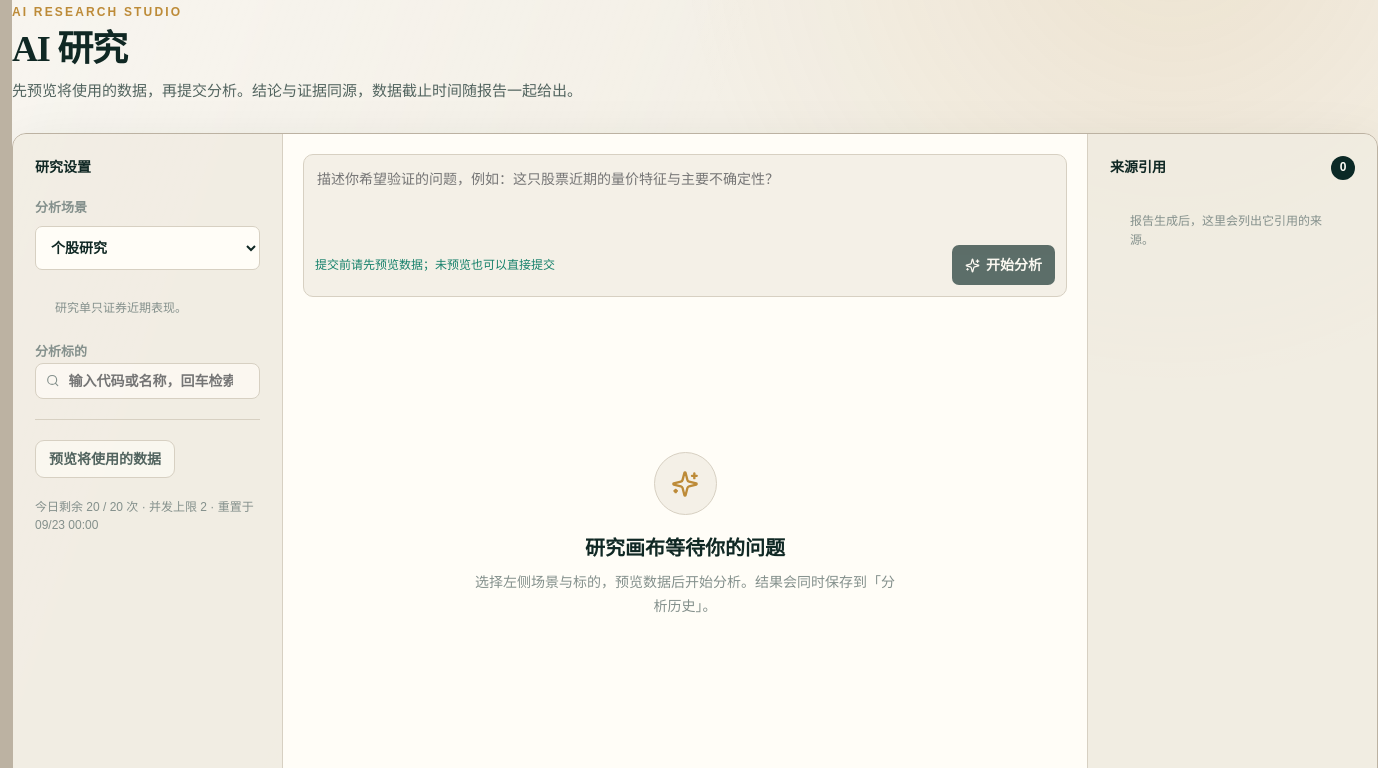
Test: AI 研究工作台 › 核心行情缺失时禁用提交，不让用户白跑一次
Step 1. Type "600519" into the search field labelled "分析标的" → (158, 381), box [66,369,249,393]
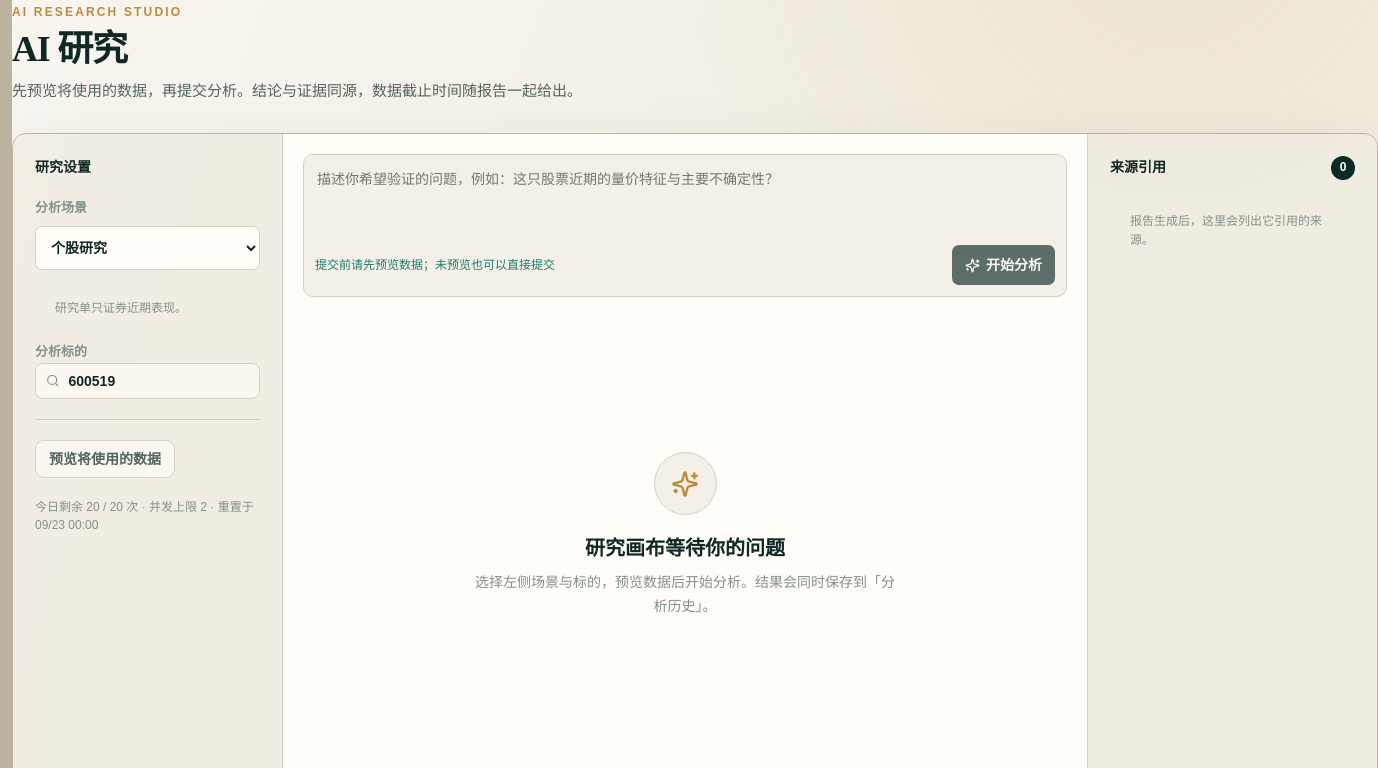
Step 2. Press Enter in the search field labelled "分析标的", box [66,369,249,393]
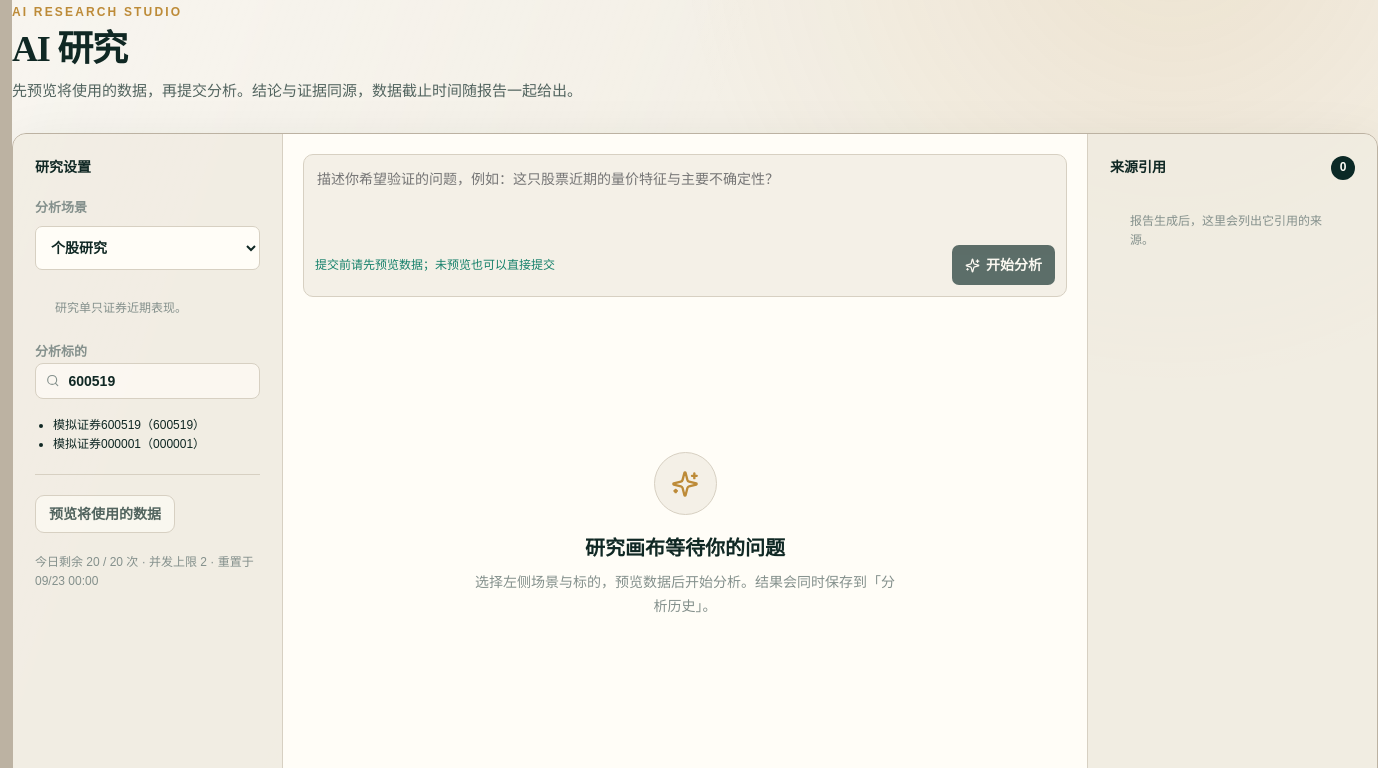
Step 3. Click the button "模拟证券600519（600519）" → (129, 425), box [53,416,205,435]
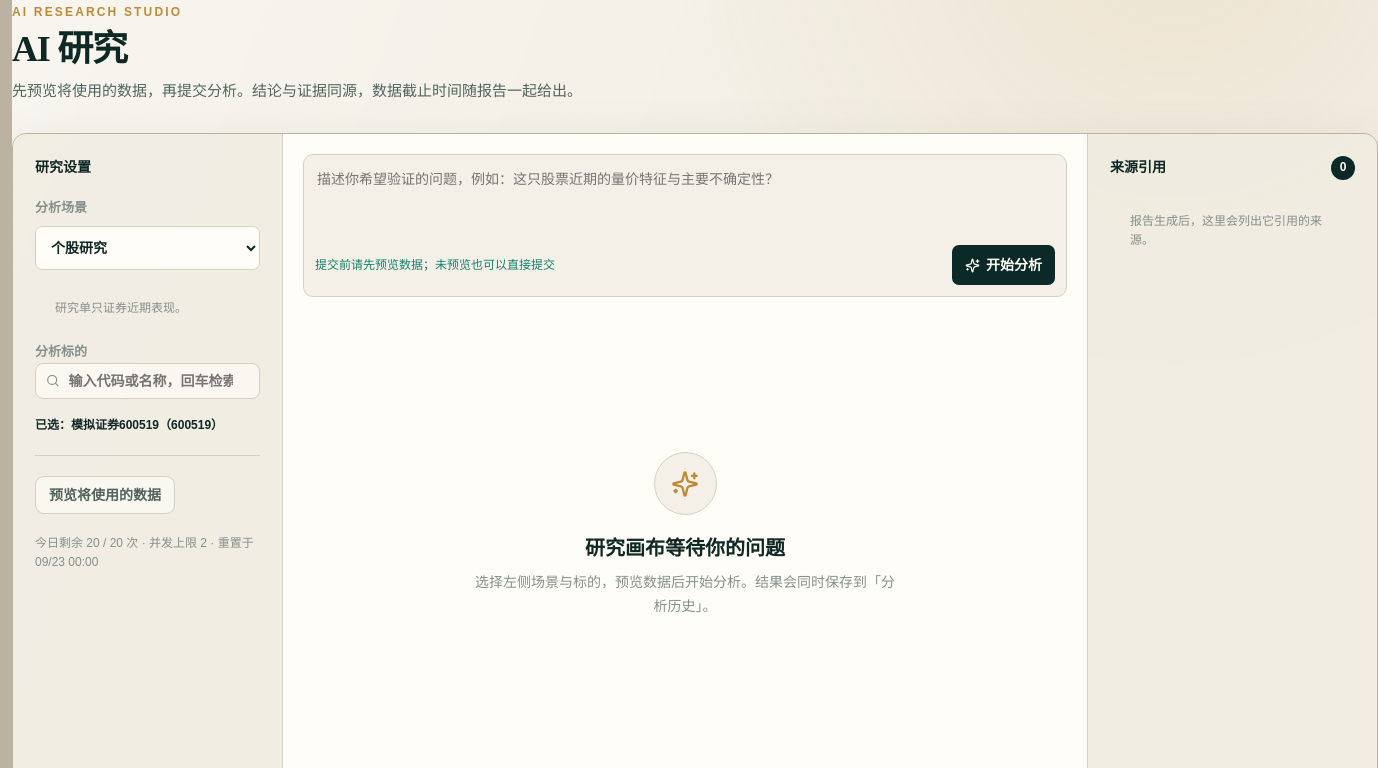
Step 4. Click the button with class "secondary-button" → (105, 495), box [35,476,175,514]
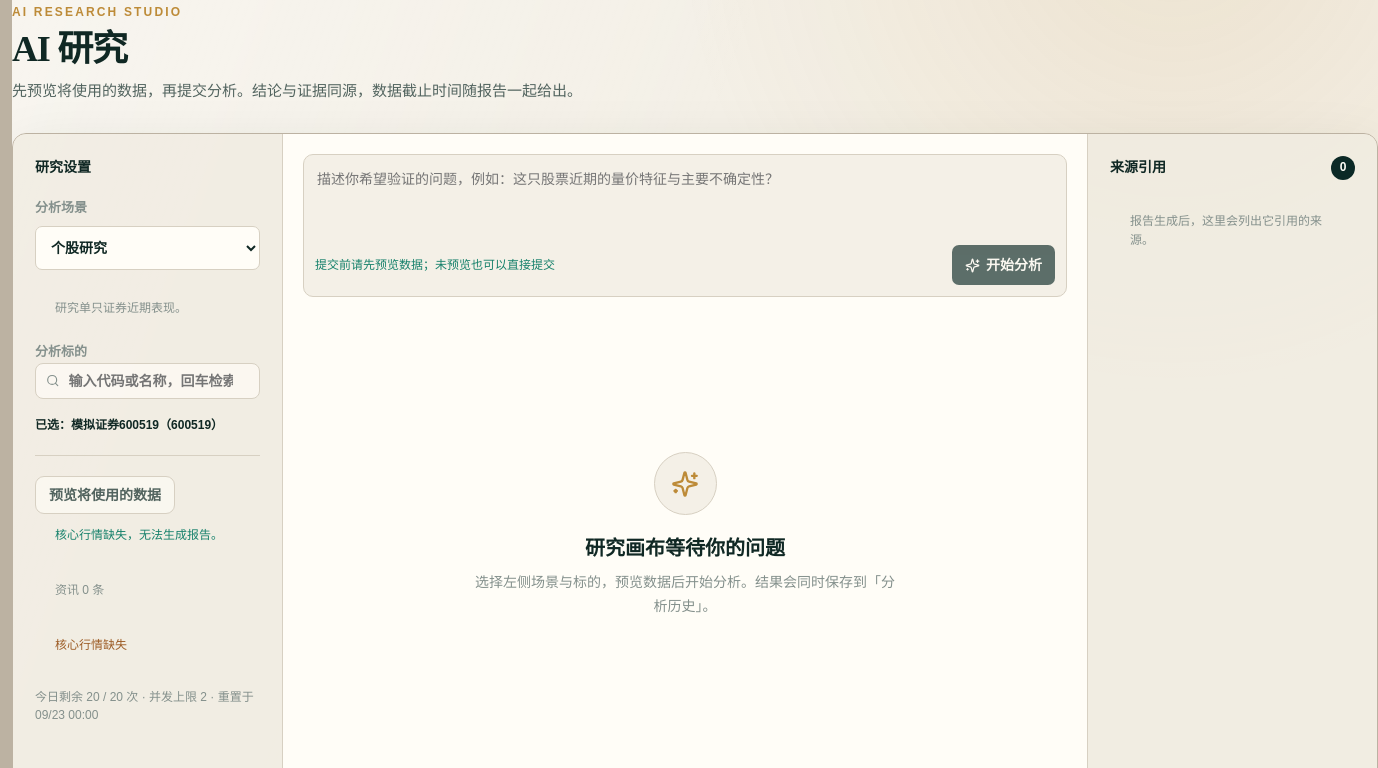
Now the text "核心行情缺失，无法生成报告" is shown, box [55,528,223,542]
Now the button "开始分析" is disabled, box [952,245,1055,285]
